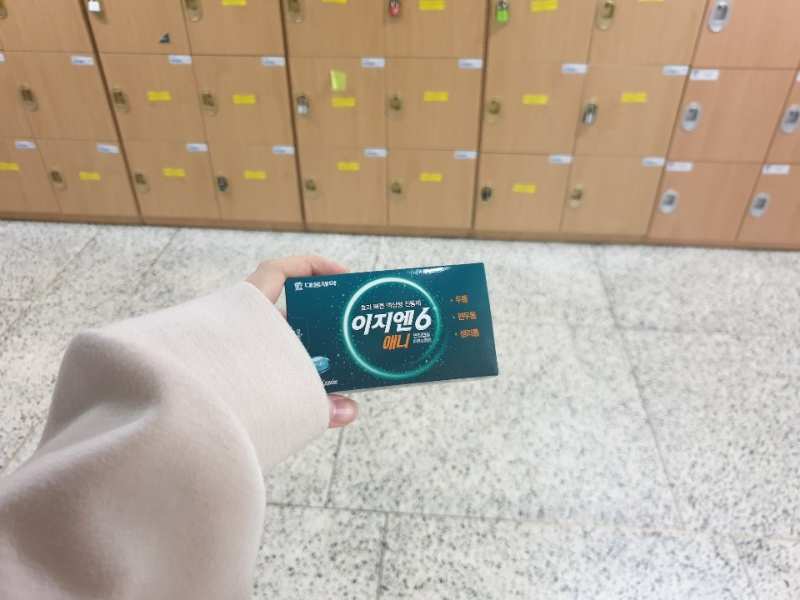ezn: (284, 262, 500, 391)
